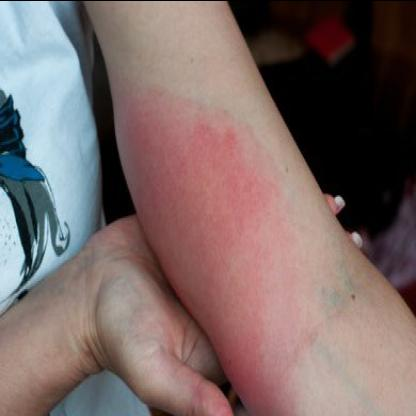Wasp: (126, 111, 278, 388)
